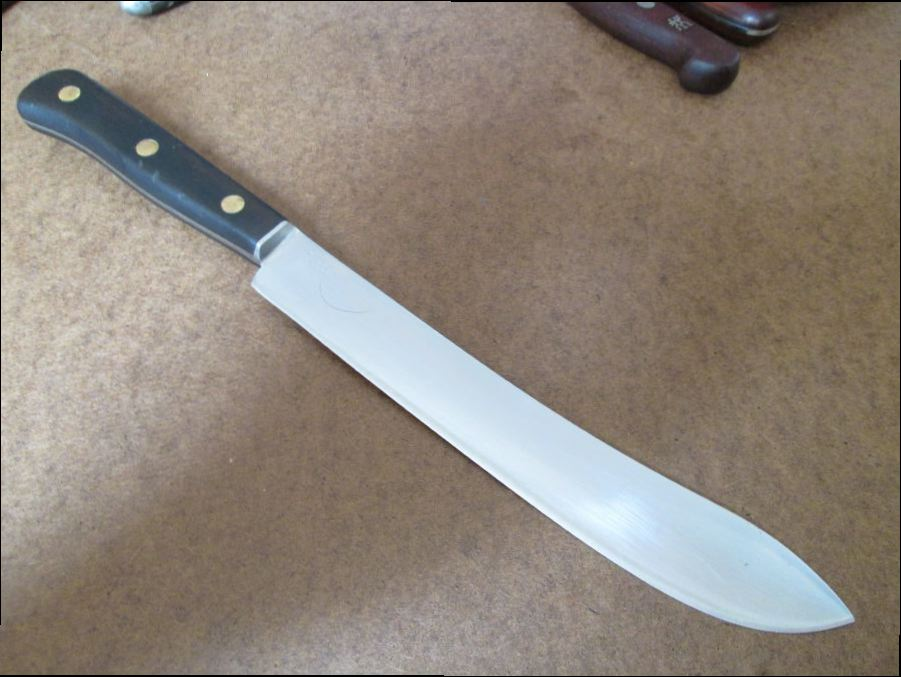knief: (26, 59, 857, 639)
